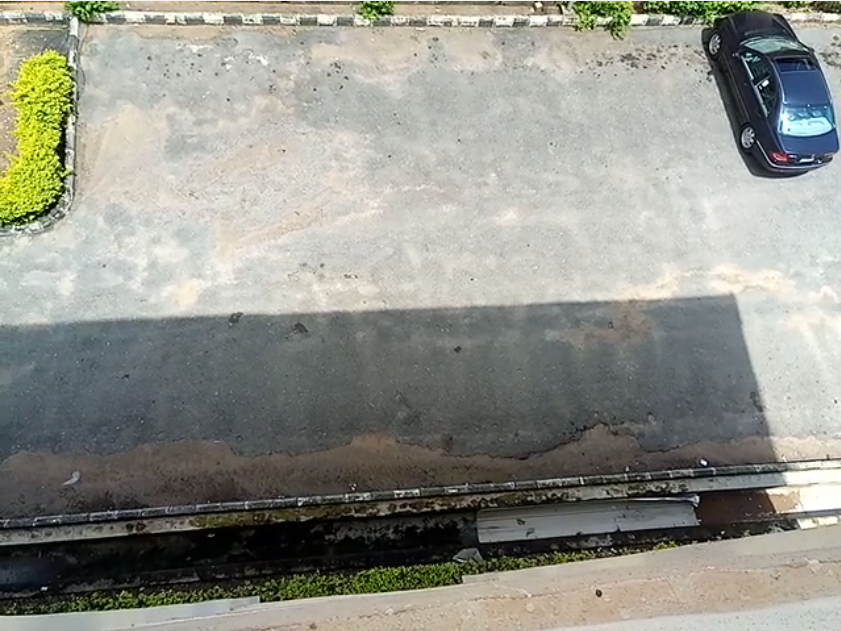one: (57, 6, 224, 229)
three: (440, 1, 587, 232)
two: (280, 1, 398, 228)
